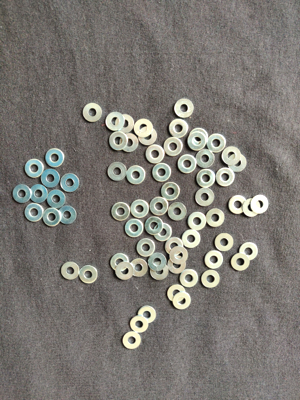circle: (207, 133, 227, 153), (125, 219, 145, 239), (83, 103, 102, 123), (170, 119, 189, 139), (45, 149, 65, 168), (25, 159, 44, 179), (41, 169, 60, 189), (108, 162, 127, 182), (120, 133, 139, 153), (164, 137, 183, 157), (152, 163, 172, 182), (150, 197, 169, 217), (110, 253, 130, 272), (222, 146, 242, 165), (175, 99, 194, 118), (106, 112, 125, 131), (115, 114, 134, 133), (134, 119, 153, 138), (61, 174, 80, 193), (58, 206, 77, 225), (25, 204, 44, 223), (127, 166, 146, 185), (146, 145, 165, 164), (109, 132, 128, 151), (206, 209, 225, 228), (188, 132, 207, 151), (111, 203, 130, 222), (145, 217, 164, 236), (188, 212, 207, 231), (182, 230, 201, 249), (168, 256, 187, 275), (137, 239, 156, 258), (79, 266, 98, 285), (148, 253, 167, 272), (150, 262, 169, 281), (201, 270, 220, 289), (205, 251, 224, 270), (231, 253, 250, 272), (196, 188, 215, 207), (178, 155, 197, 174), (196, 149, 215, 168), (216, 168, 235, 187), (47, 190, 66, 209), (30, 184, 48, 204), (190, 128, 208, 148), (239, 243, 259, 261), (129, 259, 149, 277), (139, 127, 157, 146), (13, 185, 31, 204), (43, 208, 61, 227), (229, 196, 248, 214), (154, 224, 173, 242), (168, 203, 187, 221), (170, 247, 189, 265), (62, 262, 80, 281), (180, 270, 199, 288), (215, 234, 234, 252), (197, 169, 215, 188), (173, 292, 192, 310), (137, 306, 156, 324), (122, 332, 141, 350), (115, 262, 134, 280), (251, 196, 269, 214), (162, 183, 180, 201), (131, 200, 149, 218), (166, 238, 184, 256), (229, 154, 247, 172), (243, 199, 261, 217), (168, 285, 186, 303), (130, 316, 149, 333)
